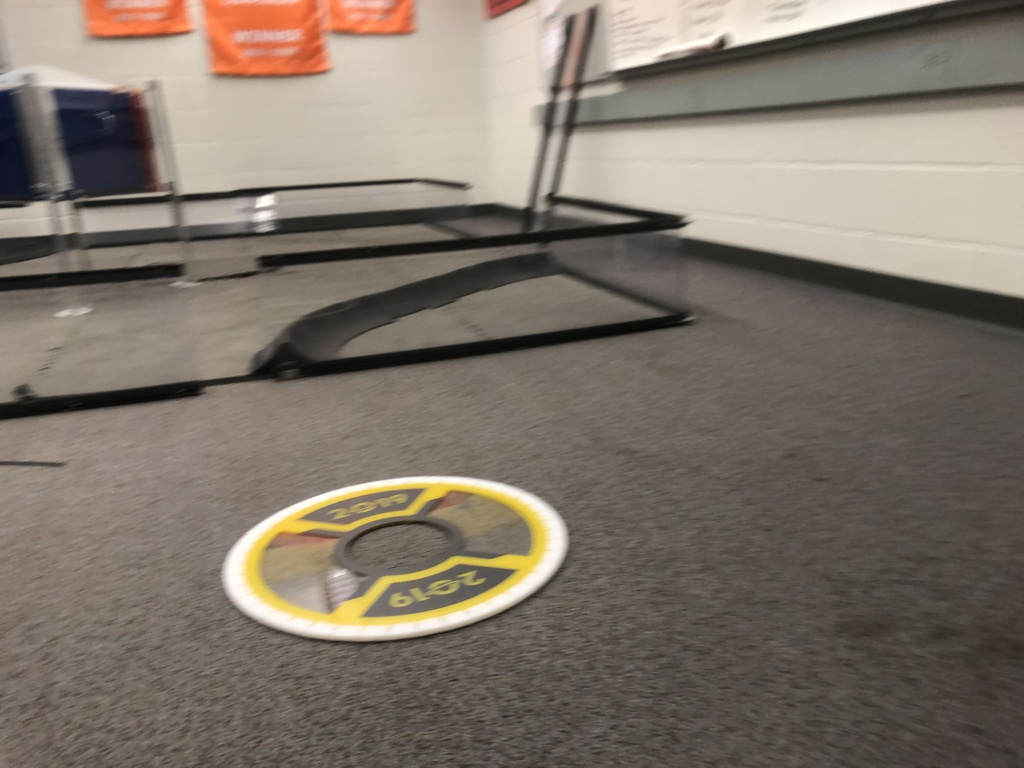hatch_panel: (213, 464, 583, 648)
